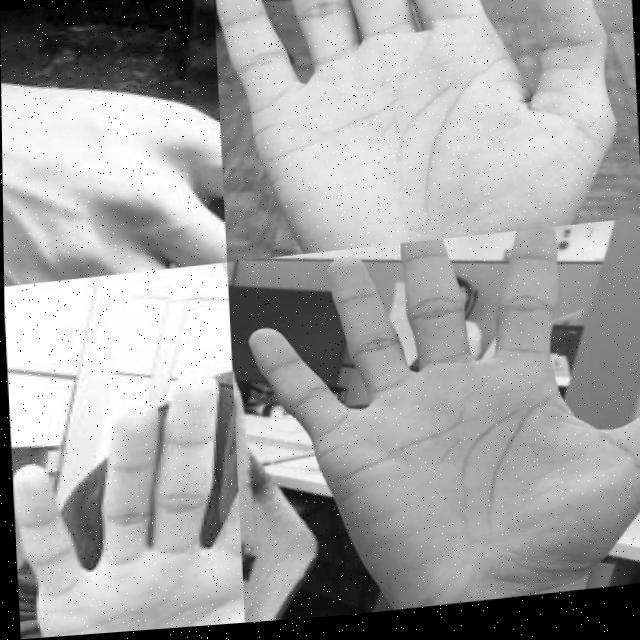no-gloves: (244, 226, 640, 626), (214, 0, 617, 266), (6, 372, 242, 640), (1, 36, 226, 286)
